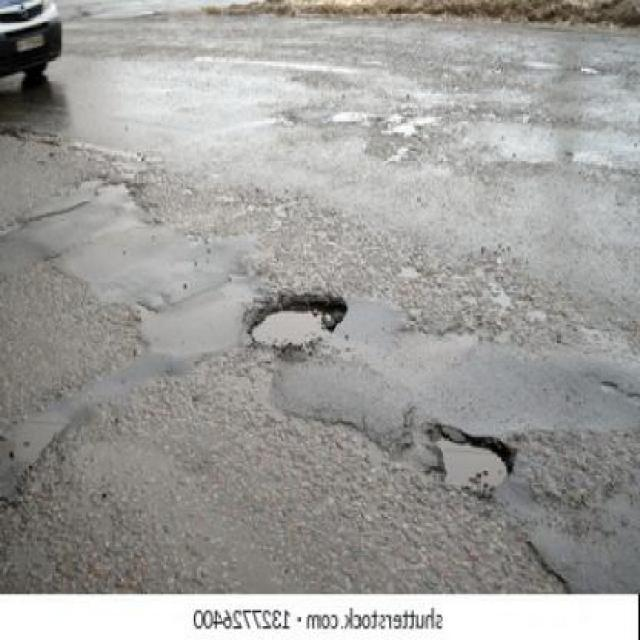Pothole: (420, 410, 525, 493), (247, 292, 352, 351)
